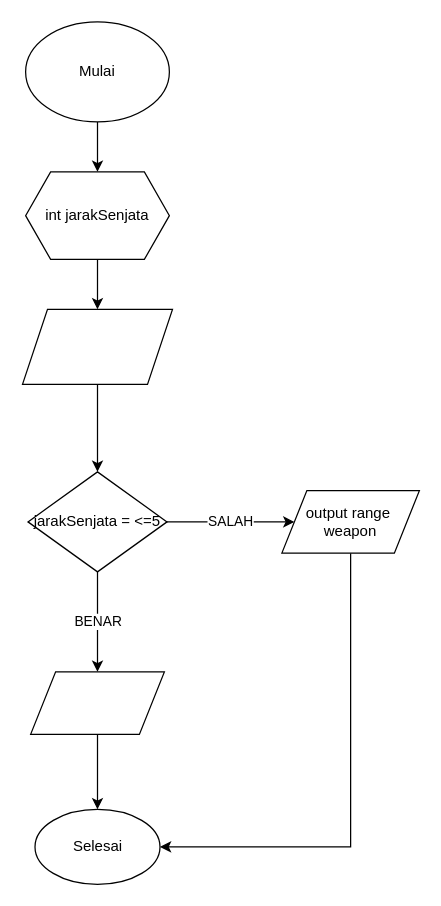
This 441x906 diagram has some shape labels left out. Each missing label, with the centre of its shape:
"input jarakSenjata" goes at point (96, 346).
"output melee weapon" goes at point (96, 702).
